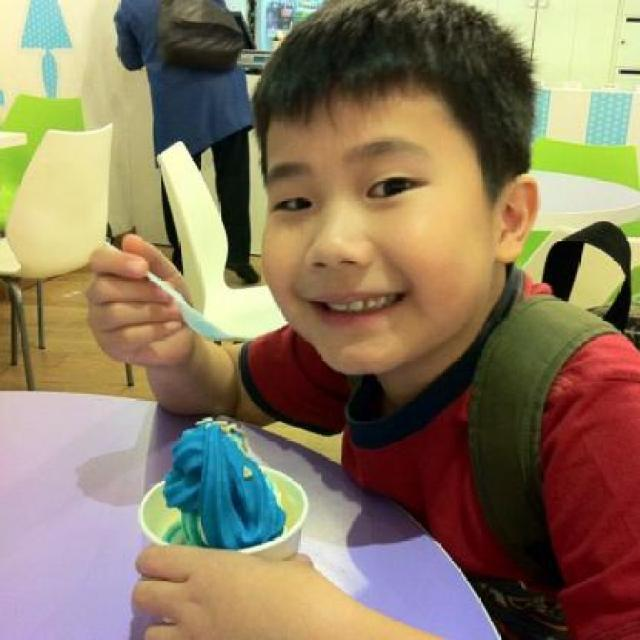Ice cream: (164, 422, 286, 547)
